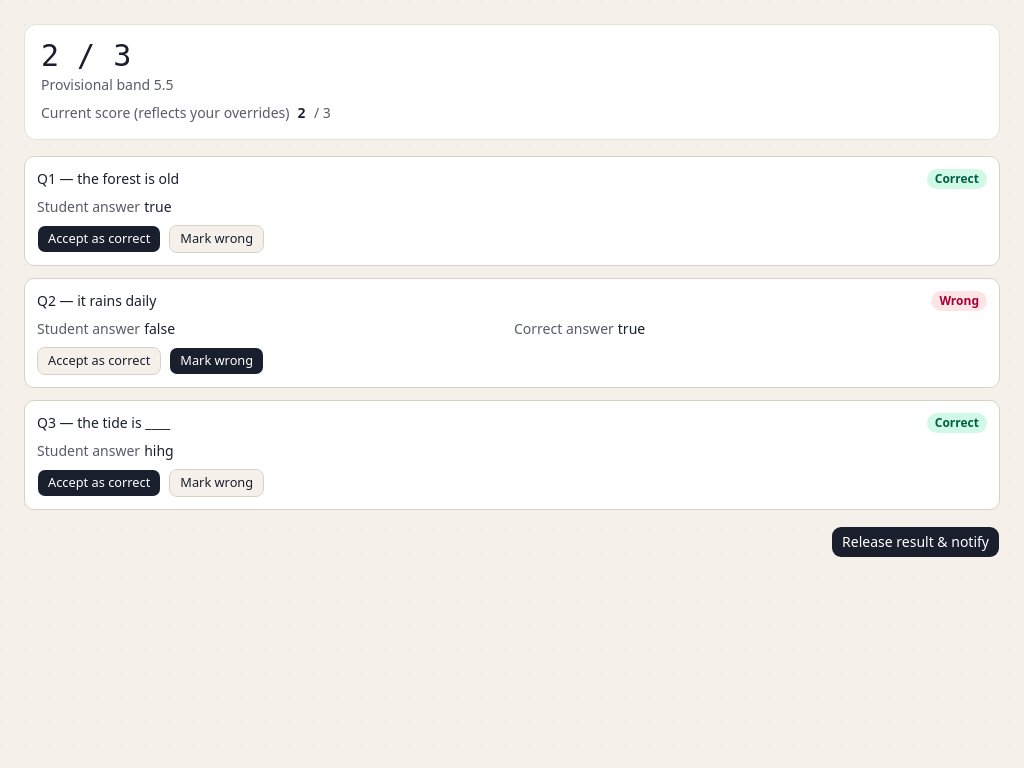
Test case: ObjectiveGradingPage — override optimistic seed (AC8) › [P1] AC8 — during the override round-trip the clicked row buttons are disabled
What coordinates should you click on to do the following:
click the button "Accept as correct" below "Q2 — it rains daily"
I would click on:
 (99, 361)
Its box is 37,347 -> 161,375.
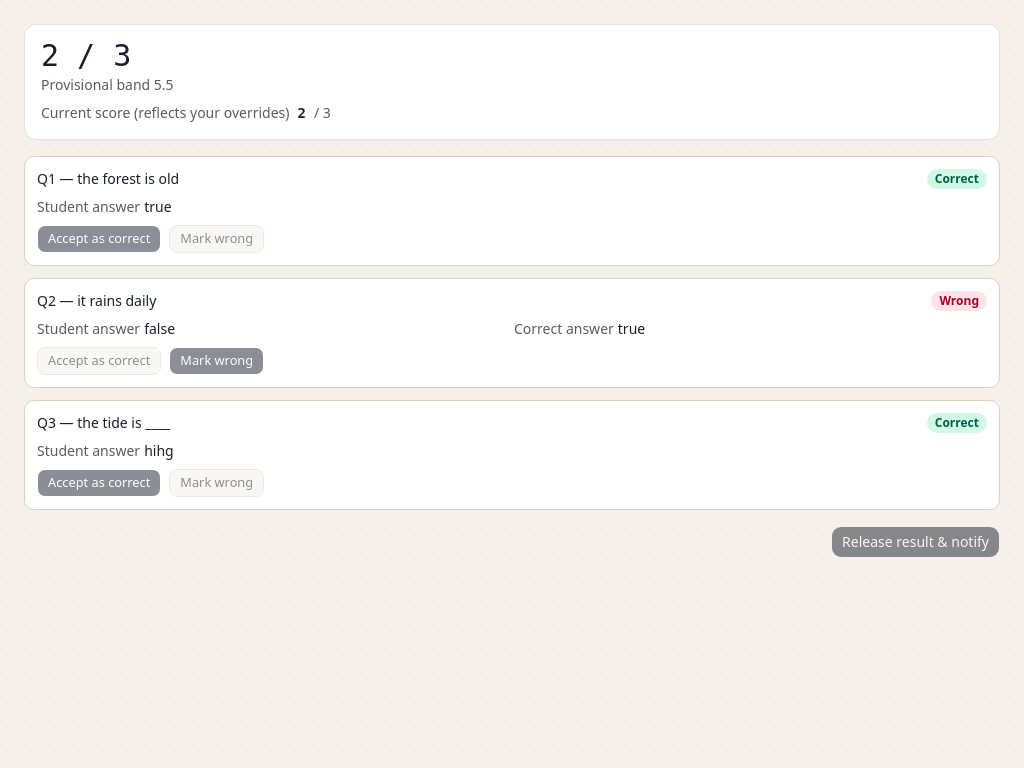
Expected: the button "Accept as correct" below "Q2 — it rains daily" is disabled, 37,347 -> 161,375
Expected: the button "Mark wrong" below "Q2 — it rains daily" is disabled, 169,347 -> 264,375
